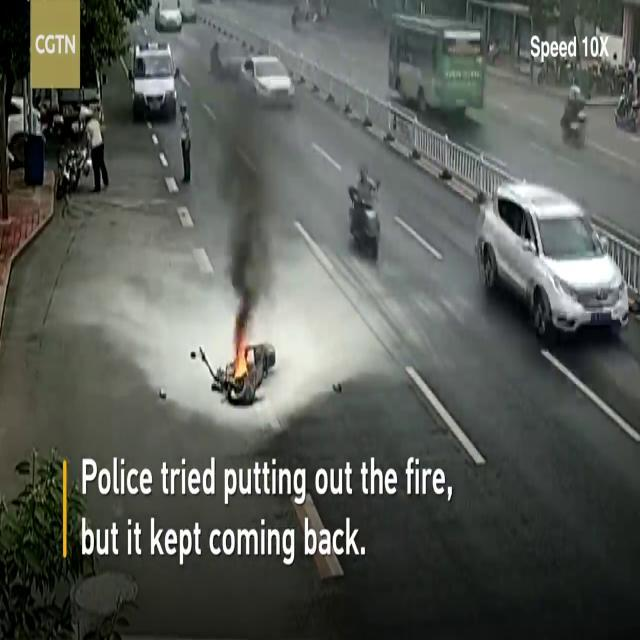Fire: (228, 326, 258, 376)
Smoke: (192, 22, 306, 318)
